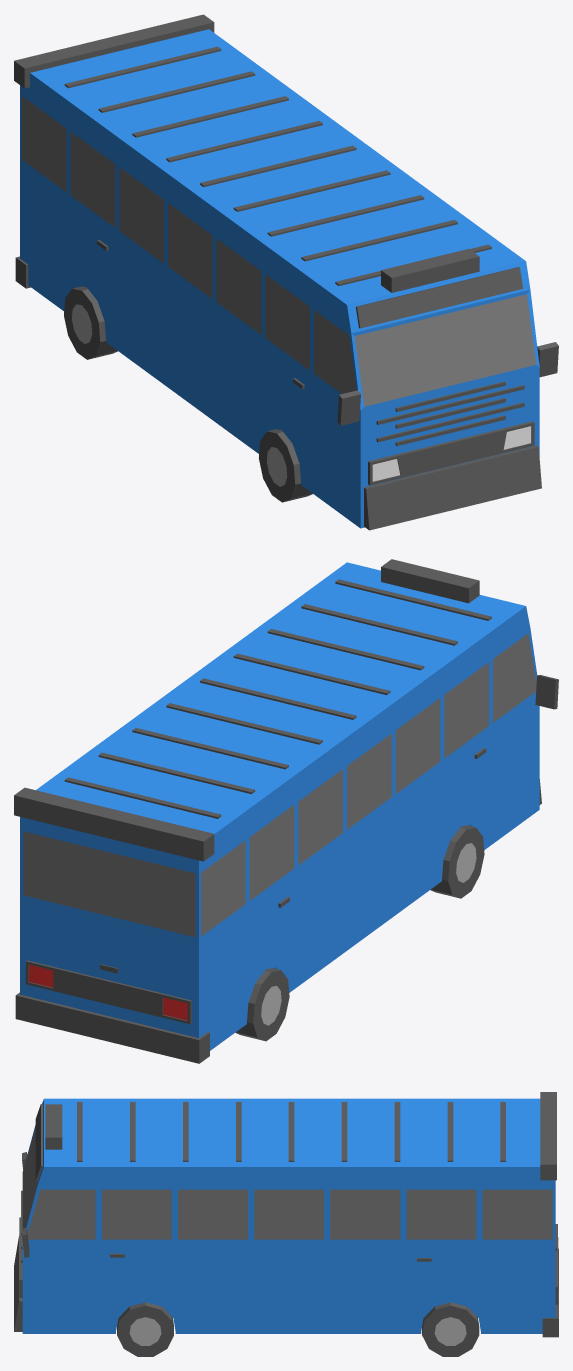
File: SM_Bus_01_03.FBX
3 renders of one model, top to bottom at view 1: azimuth 30°, elevation 25°; view 2: azimuth 150°, elevation 25°; view 3: azimuth 270°, elevation 25°, orthographic. The views are drawn at different scales.
Visible parts, largest first — view 1: SM_Bus_01_03, SM_Wheel_LFront001, SM_Wheel_RBack001; view 2: SM_Bus_01_03, SM_Wheel_RBack001, SM_Wheel_LFront001; view 3: SM_Bus_01_03, SM_Wheel_LBack001, SM_Wheel_LFront002.
Part boxes in pixels (x1=…): SM_Bus_01_03: x1=14, y1=14, x2=558, y2=530; SM_Wheel_LFront001: x1=259, y1=429, x2=312, y2=502; SM_Wheel_RBack001: x1=64, y1=286, x2=117, y2=359; SM_Bus_01_03: x1=14, y1=559, x2=558, y2=1063; SM_Wheel_RBack001: x1=235, y1=968, x2=289, y2=1041; SM_Wheel_LFront001: x1=430, y1=825, x2=484, y2=898; SM_Bus_01_03: x1=14, y1=1092, x2=558, y2=1337; SM_Wheel_LBack001: x1=422, y1=1302, x2=479, y2=1356; SM_Wheel_LFront002: x1=117, y1=1302, x2=173, y2=1356.
Bounding box in the file's own units: 1.7 × 1.91 × 4.73.
1 material, 1 textured.
